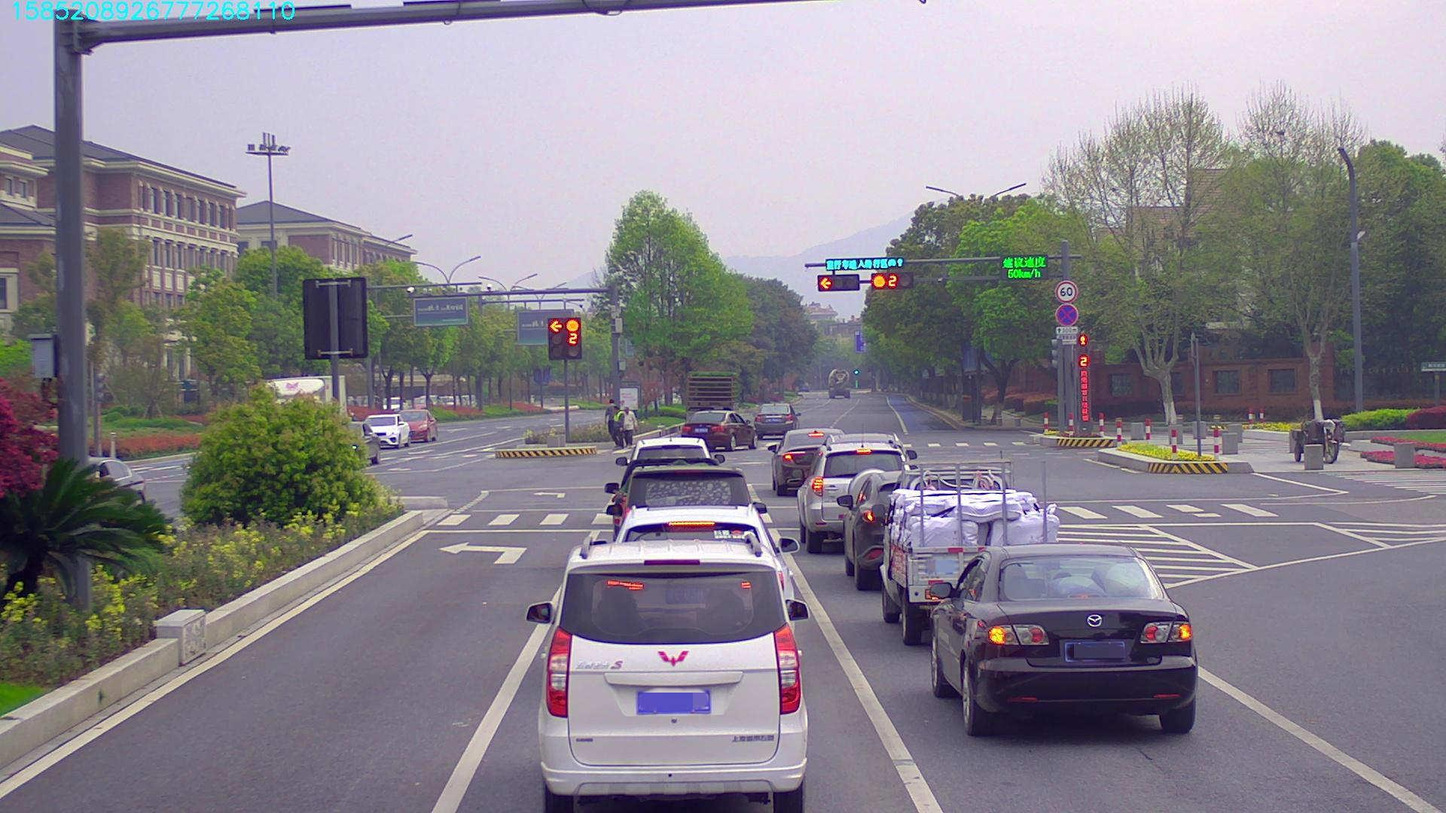red: (817, 273, 857, 292), (873, 273, 913, 291)
wait_on: (826, 260, 906, 273)
